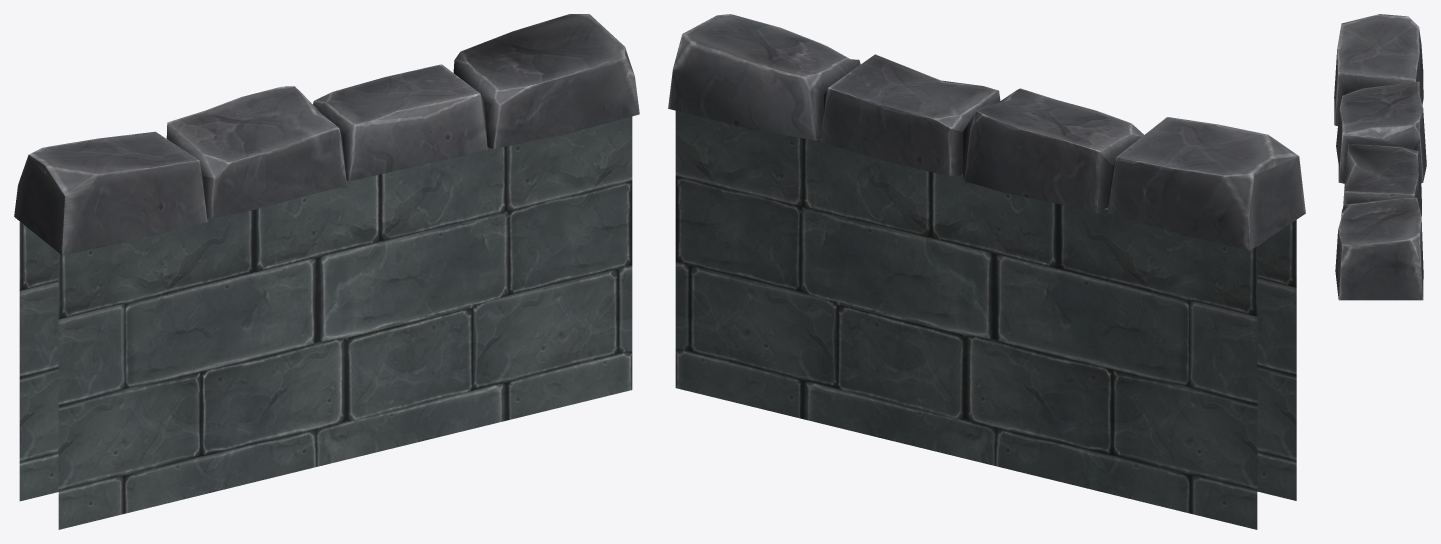
File: Wall01.FBX
The picture shows the model from 3 angles, left to right: view 1: azimuth 30°, elevation 25°; view 2: azimuth 150°, elevation 25°; view 3: azimuth 270°, elevation 25°; orthographic projection. The views are drawn at different scales.
Visible parts, largest first — view 1: Wall01; view 2: Wall01; view 3: Wall01.
Boxes of the visible parts, left/top/right/bottom form: Wall01: left=14, top=14, right=639, bottom=529; Wall01: left=668, top=14, right=1305, bottom=529; Wall01: left=1334, top=14, right=1426, bottom=300.
Size of the model in its own units: 3.84 by 0.6493 by 2.23.
